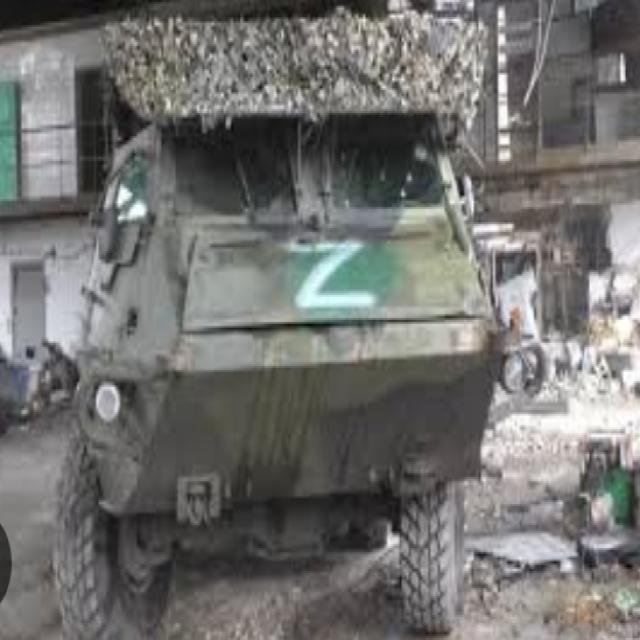MIL_APC: (34, 103, 523, 640)
